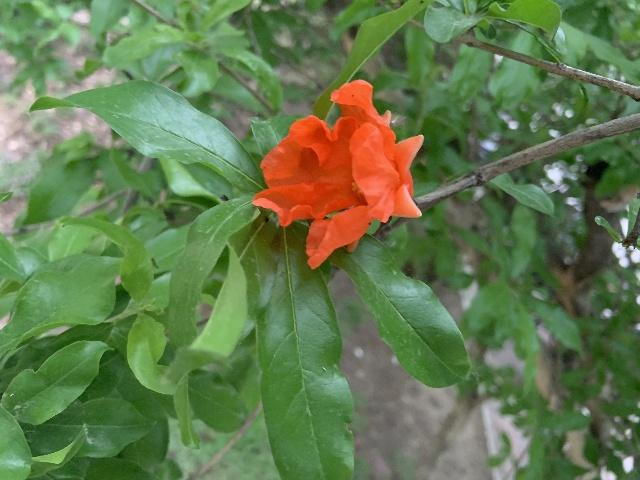flower: (253, 79, 423, 270)
